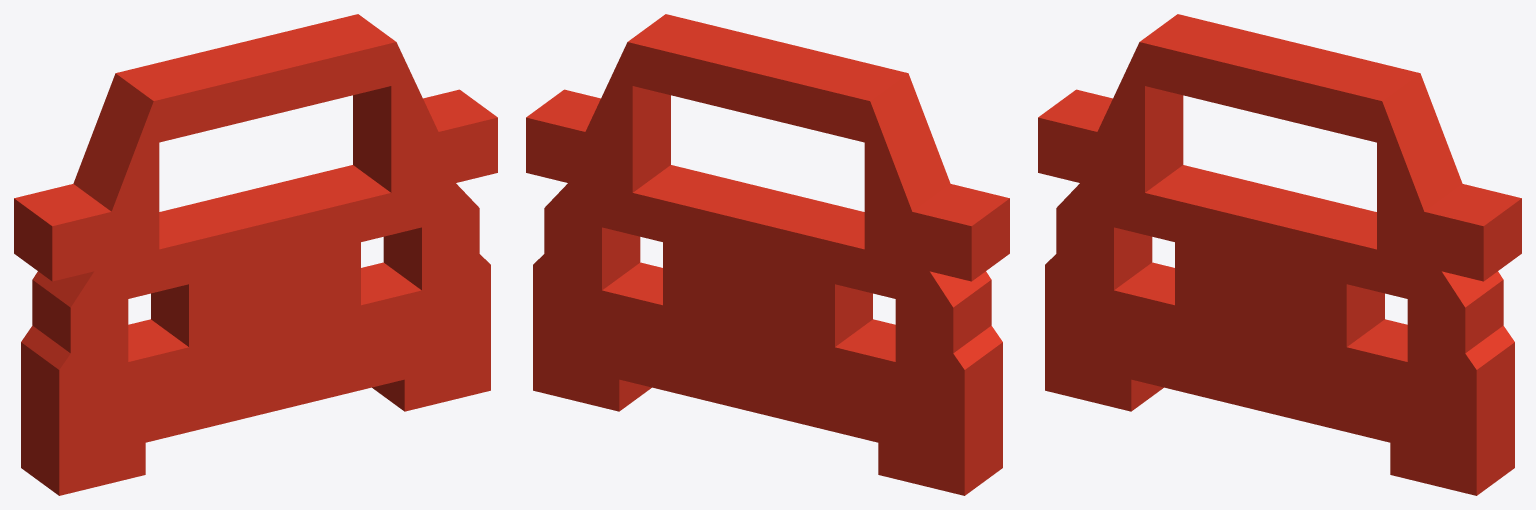
Rendered from Icon_Car_03.fbx.
3 views of the same model, side by side, from view 1: azimuth 30°, elevation 25°; view 2: azimuth 150°, elevation 25°; view 3: azimuth 330°, elevation 25° (orthographic).
Visible parts, largest first — view 1: Icon_Car_03; view 2: Icon_Car_03; view 3: Icon_Car_03.
Boxes of the visible parts, x1,y1,x2,y2 form: Icon_Car_03: (14,14,497,495); Icon_Car_03: (526,14,1009,495); Icon_Car_03: (1038,14,1521,495).
Size of the model in its own units: 81.13 by 64.65 by 12.06.
